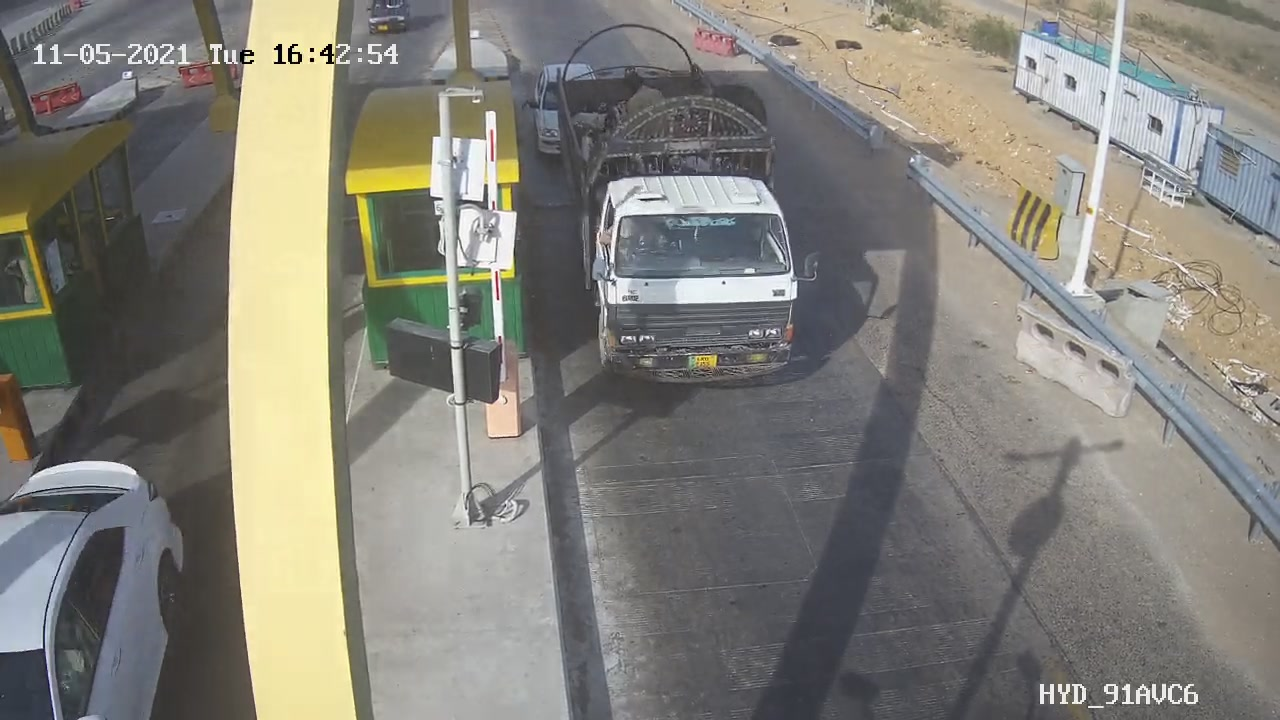F5: (539, 11, 853, 411)
